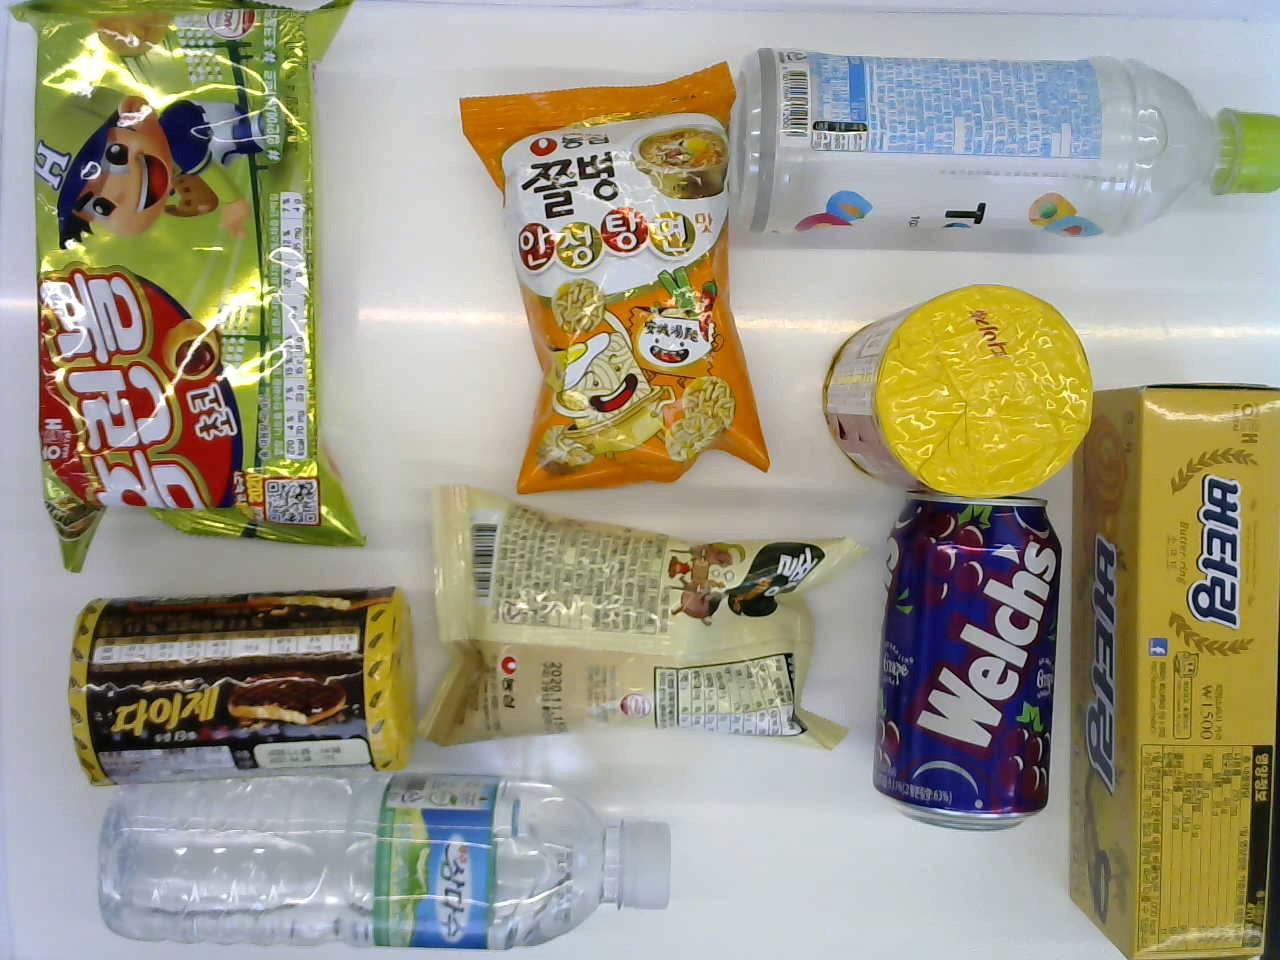buttering: (1060, 335, 1280, 960)
diget_choco: (66, 586, 417, 784)
diget_ori: (93, 740, 678, 949), (817, 272, 1097, 501)
homerunball: (21, 0, 367, 561)
jjolbyung_noodle: (455, 71, 766, 514)
jjolbyung_ori: (93, 740, 678, 949), (425, 493, 846, 758)
samdasu: (93, 740, 678, 949)
toreta: (733, 46, 1280, 262)
welchs: (864, 493, 1064, 843)
